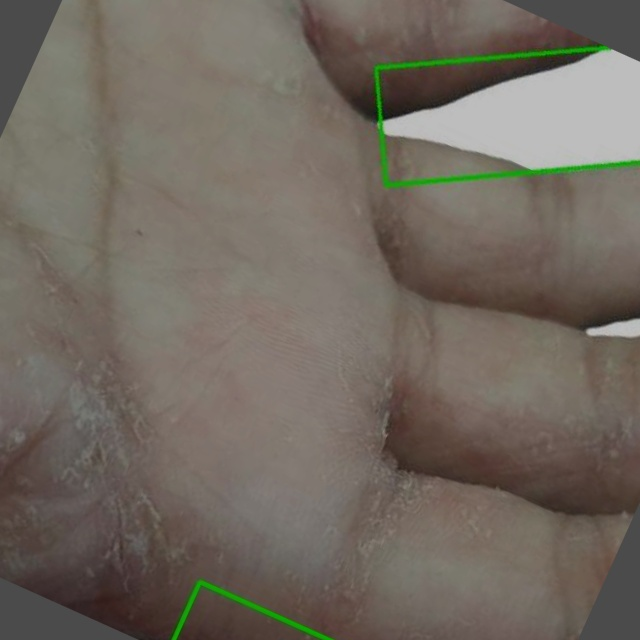Scabies: (376, 47, 639, 186)
